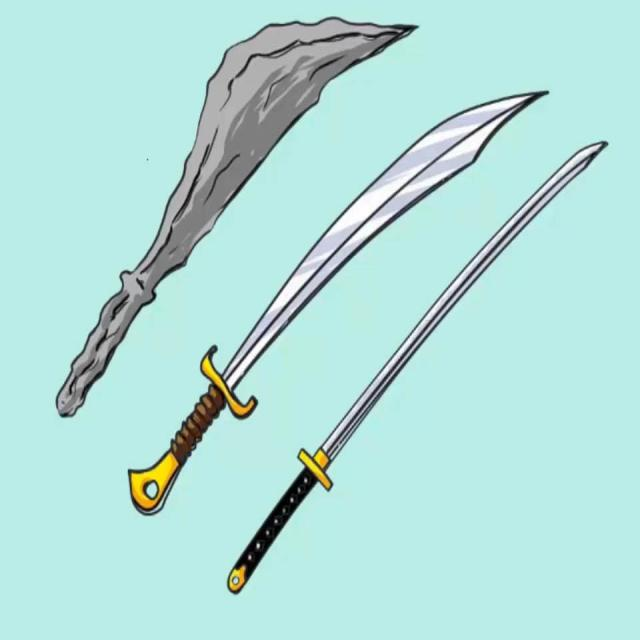Weapon: (127, 84, 556, 521), (225, 138, 614, 596)
